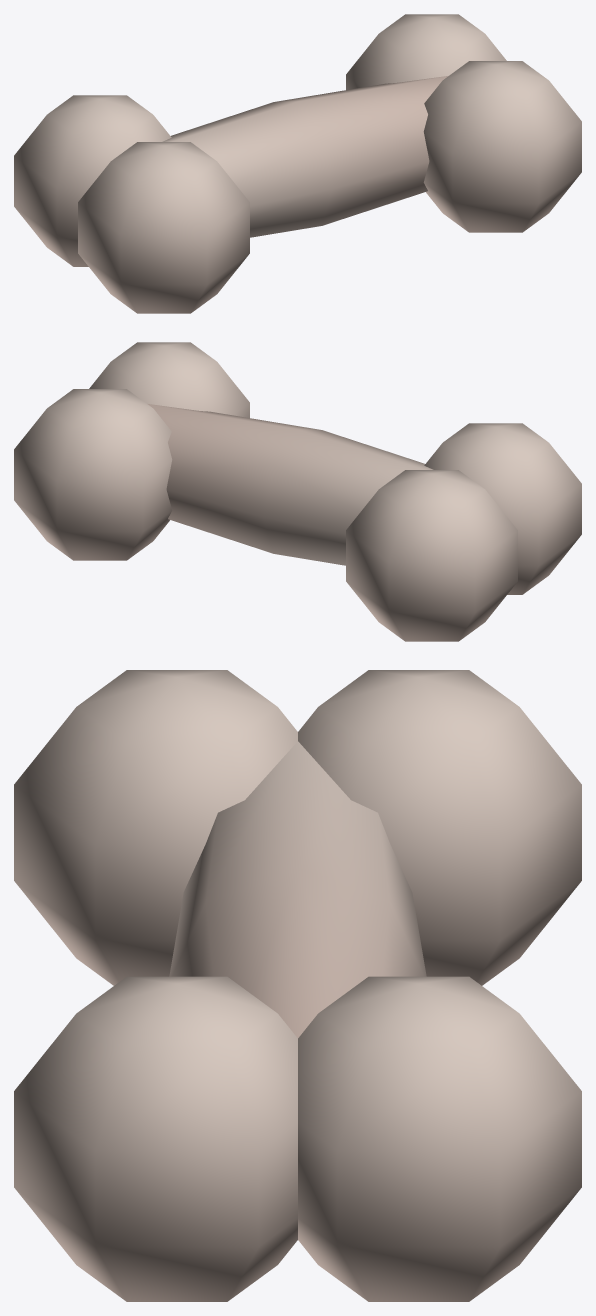
Rendered from bone.glb.
3 views of the same model, one above another, from view 1: azimuth 30°, elevation 25°; view 2: azimuth 150°, elevation 25°; view 3: azimuth 270°, elevation 25° (orthographic). The views are drawn at different scales.
Visible parts, largest first — view 1: bone; view 2: bone; view 3: bone.
Part boxes in pixels (x1,y1,x2,y2): bone: [14, 14, 581, 313]; bone: [14, 342, 581, 641]; bone: [14, 670, 581, 1301].
Bounding box in the file's own units: 0.242 × 0.0823 × 0.1364.
